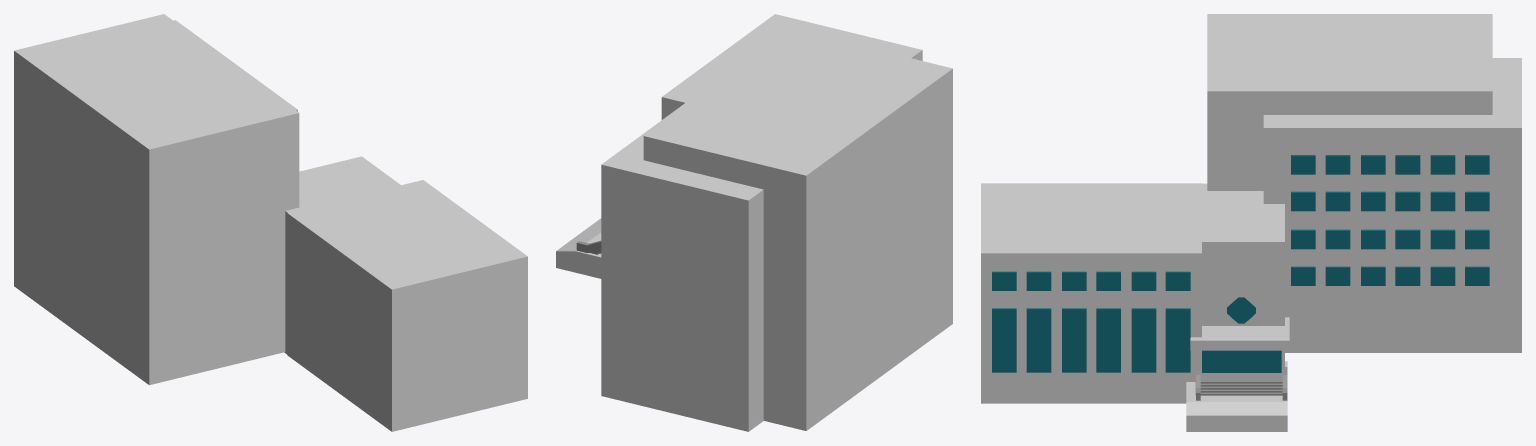
File: BUILDING.fbx
3 views of the same model, side by side, from view 1: azimuth 30°, elevation 25°; view 2: azimuth 150°, elevation 25°; view 3: azimuth 270°, elevation 25° (orthographic). The views are drawn at different scales.
Parts seen in each view (by area): view 1: Cube.010; view 2: Cube.010; view 3: Cube.010.
Part boxes in pixels (x1,y1,x2,y2): Cube.010: [14, 14, 527, 431]; Cube.010: [556, 14, 952, 431]; Cube.010: [981, 14, 1521, 431].
Size of the model in its own units: 14475 by 9986 by 19596.
